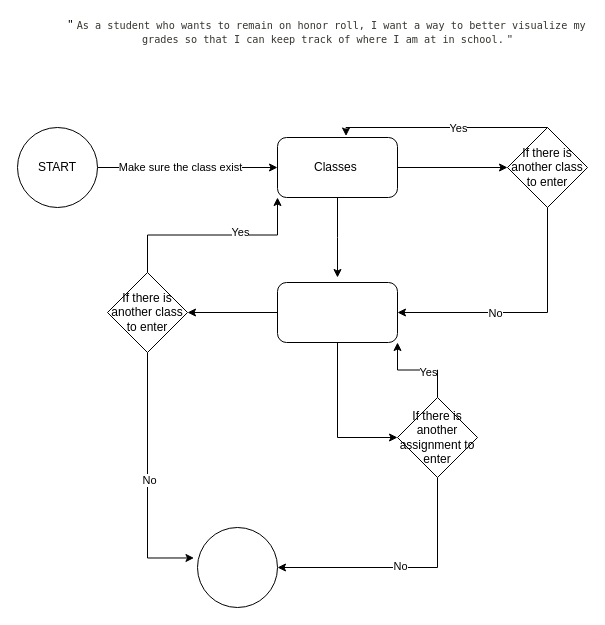
Image size: 605x625. Some labels were removed from this diagram. Each missing label, with the box of its shape:
Class Page: (276, 282, 398, 342)
END: (196, 526, 278, 608)
